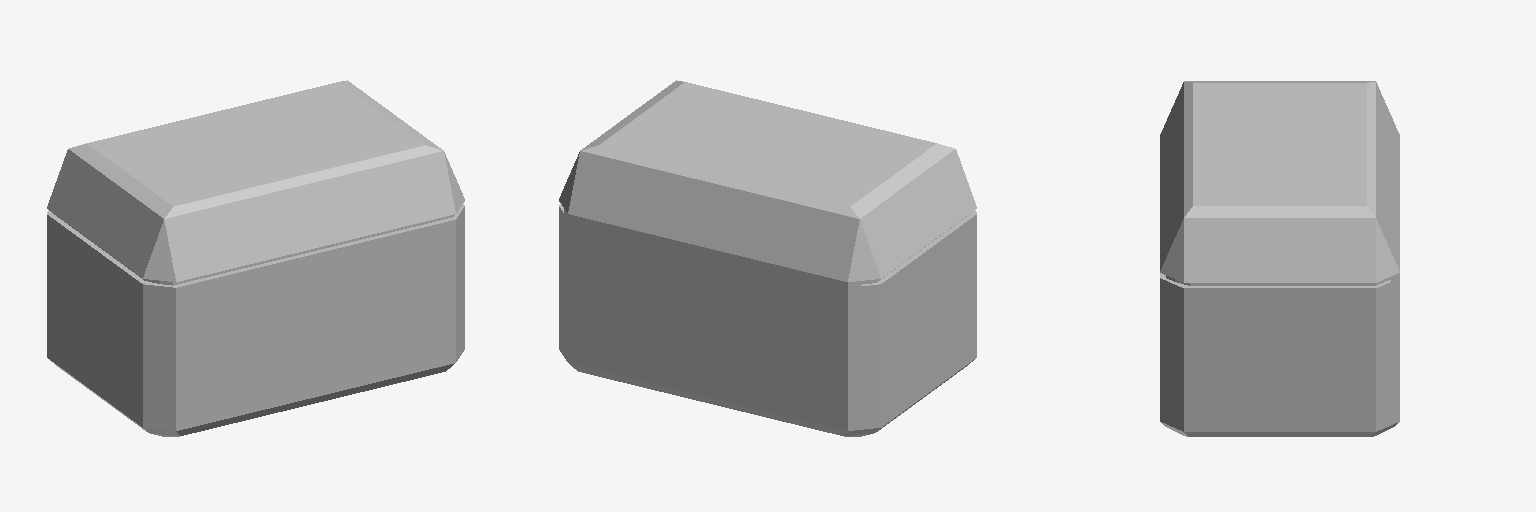
The model's file is lootChest-closed.obj.
3 views of the same model, side by side, from view 1: azimuth 30°, elevation 25°; view 2: azimuth 150°, elevation 25°; view 3: azimuth 270°, elevation 25° (orthographic).
Visible parts, largest first — view 1: High_Cube.002; view 2: High_Cube.002; view 3: High_Cube.002.
Boxes of the visible parts, box(x1,y1,x2,y2) form: High_Cube.002: box(47, 80, 464, 436); High_Cube.002: box(559, 80, 976, 436); High_Cube.002: box(1160, 81, 1399, 436).
Bounding box in the file's own units: 3.1 × 2.05 × 2.